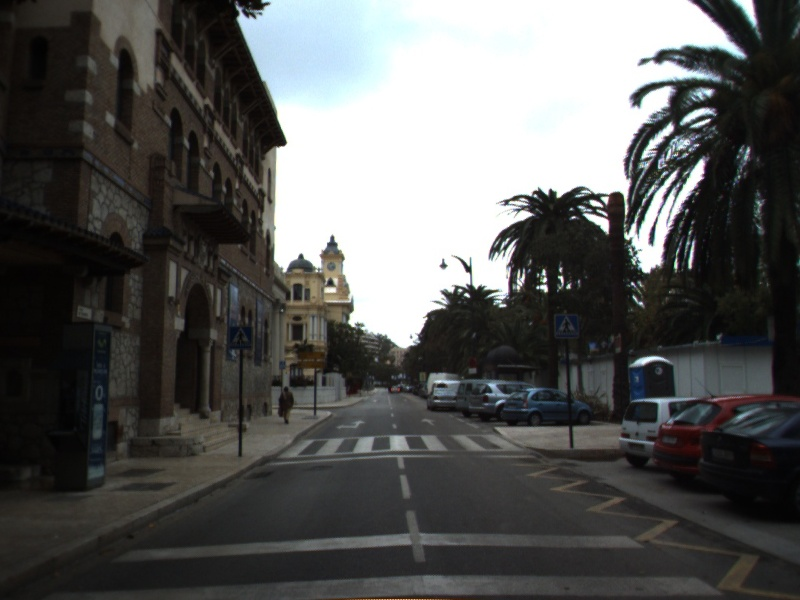STRAIGHT: (419, 416, 438, 427)
STRAIGHT_LEFT: (334, 417, 367, 431)
